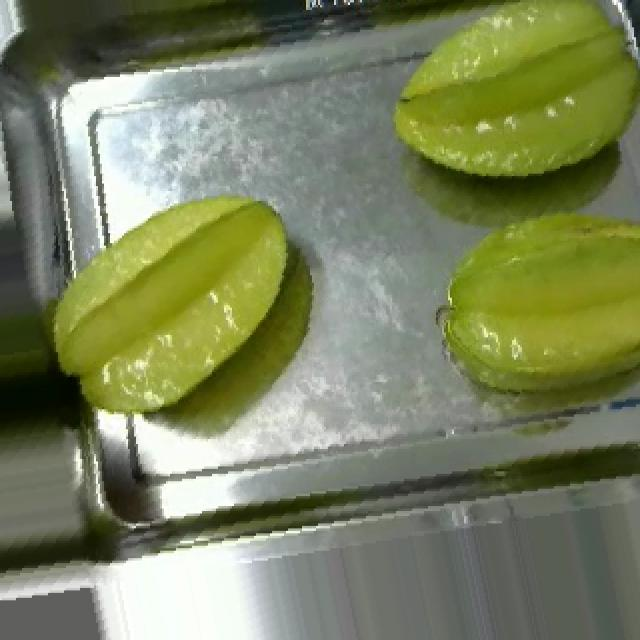fruit: (22, 168, 322, 436), (368, 0, 640, 218), (412, 176, 640, 427), (4, 0, 290, 50)
